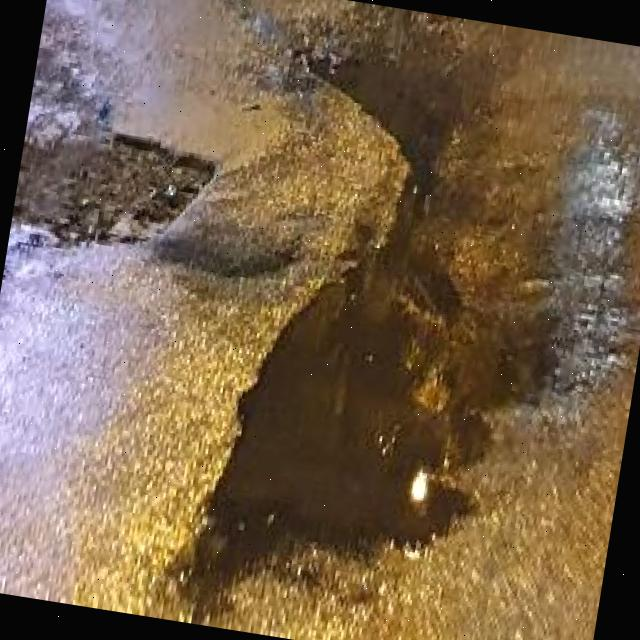stagnation: (175, 2, 640, 640)
